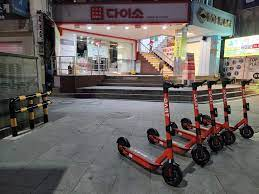kick_board: (117, 82, 182, 186)
kick_handler: (240, 77, 253, 86), (191, 80, 205, 88), (207, 79, 220, 87), (163, 84, 179, 90), (222, 78, 234, 85)
kick_neck: (163, 94, 172, 155), (192, 93, 202, 141), (241, 89, 249, 121)
kick_wheel: (162, 161, 182, 185), (192, 146, 210, 164), (209, 136, 224, 151), (222, 131, 236, 145), (239, 126, 254, 139), (117, 137, 128, 154), (147, 128, 158, 143)
